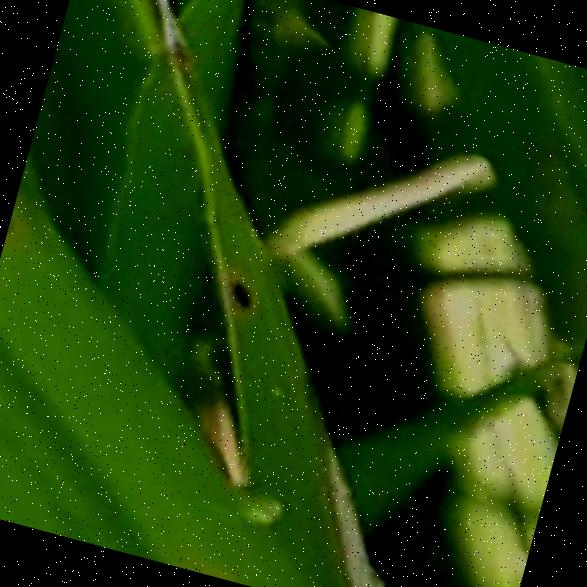Brown_Spot: (211, 262, 272, 321)
